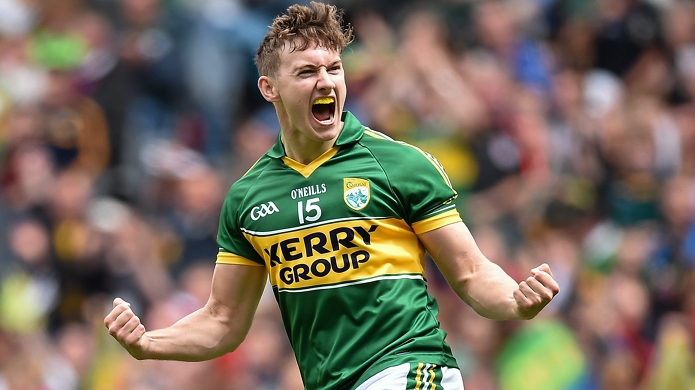player: (200, 6, 498, 384)
